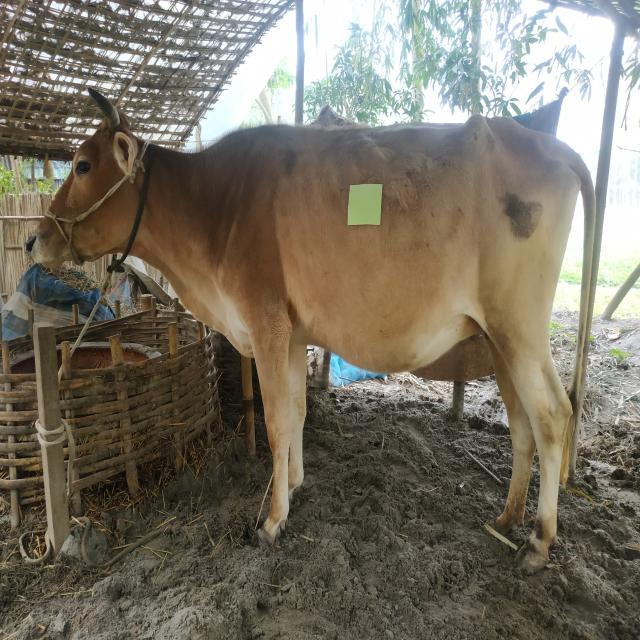badan_sapi: (244, 134, 557, 362)
sapi: (24, 89, 606, 581)
